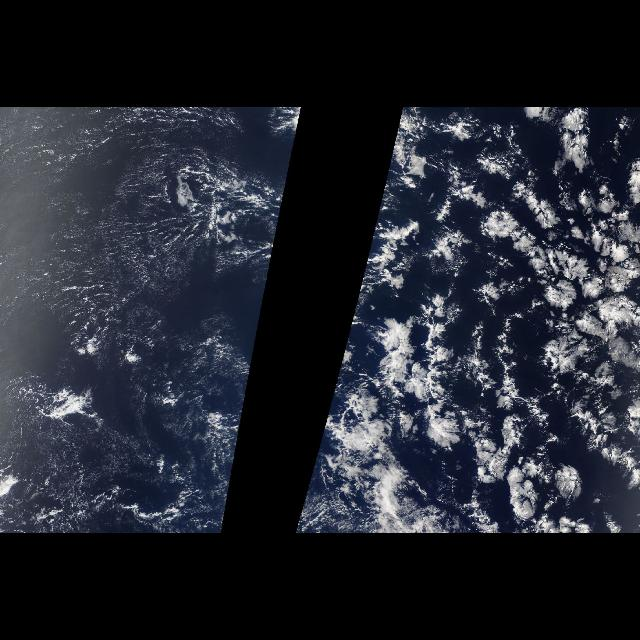Flower: (317, 109, 639, 534)
Sugar: (1, 109, 291, 534)
